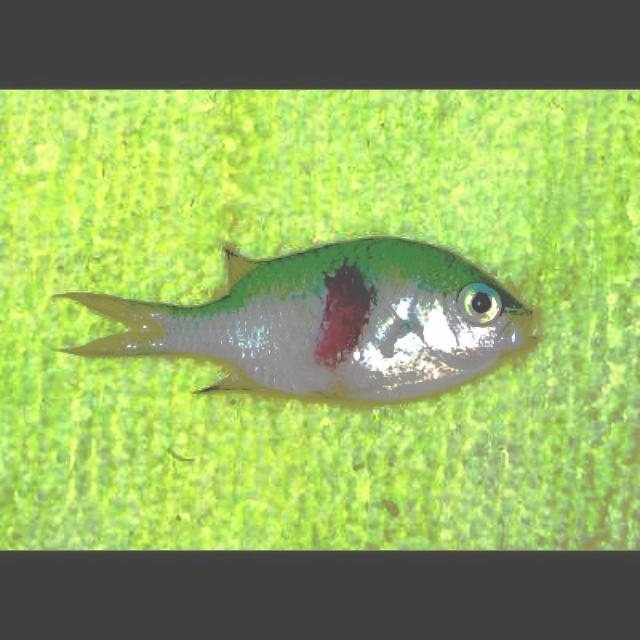Epizootic Ulcerative Syndrome -EUS-: (67, 237, 534, 398), (66, 237, 533, 397)
